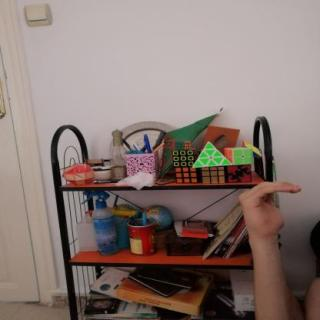HAA: (232, 176, 306, 244)
